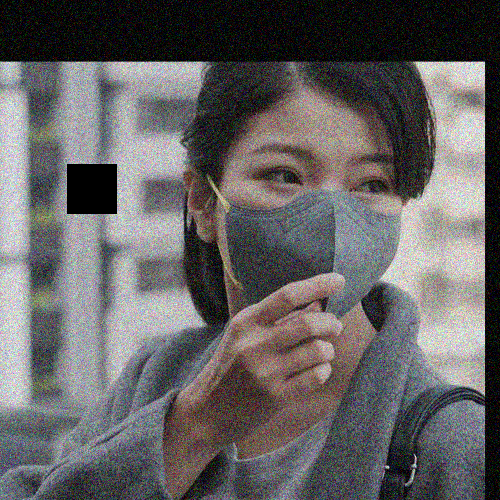with_mask: (213, 140, 406, 330)
